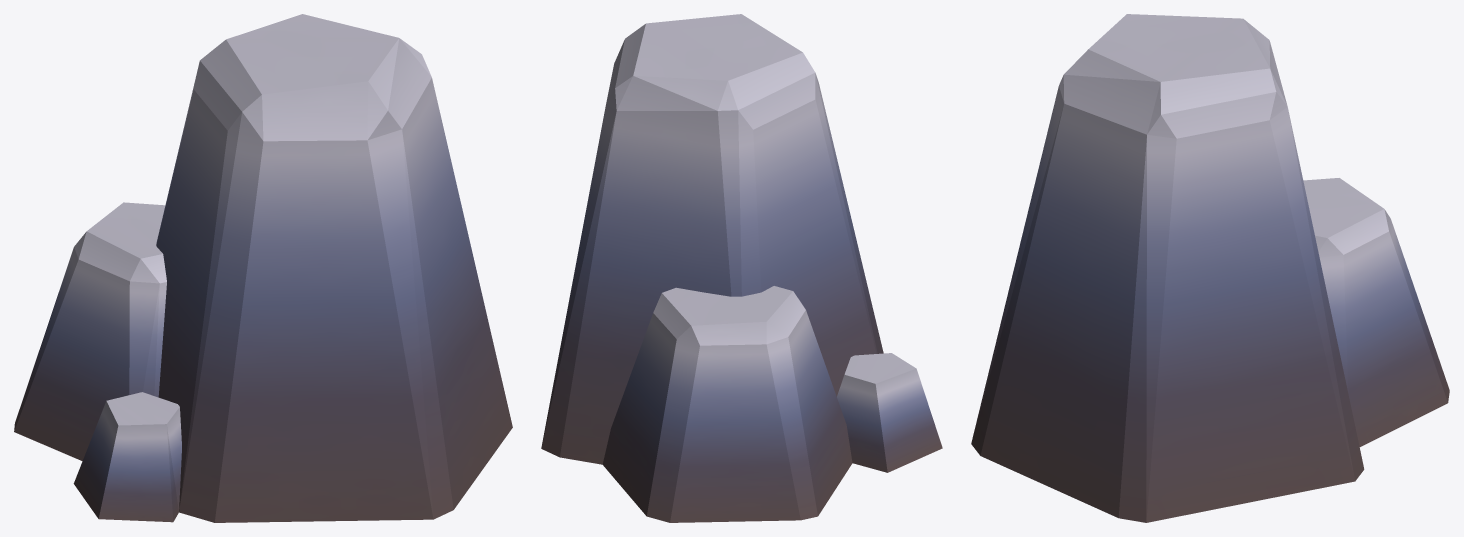
The model's file is block_mountain_1_1.fbx.
The picture shows the model from 3 angles, left to right: view 1: azimuth 30°, elevation 25°; view 2: azimuth 150°, elevation 25°; view 3: azimuth 270°, elevation 25°; orthographic projection. The views are drawn at different scales.
Visible parts, largest first — view 1: block_mountain_1_1; view 2: block_mountain_1_1; view 3: block_mountain_1_1.
Part boxes in pixels (x1,y1,x2,y2): block_mountain_1_1: [14, 14, 512, 522]; block_mountain_1_1: [541, 14, 942, 522]; block_mountain_1_1: [971, 14, 1449, 522].
Size of the model in its own units: 67.19 by 61.41 by 68.01.
